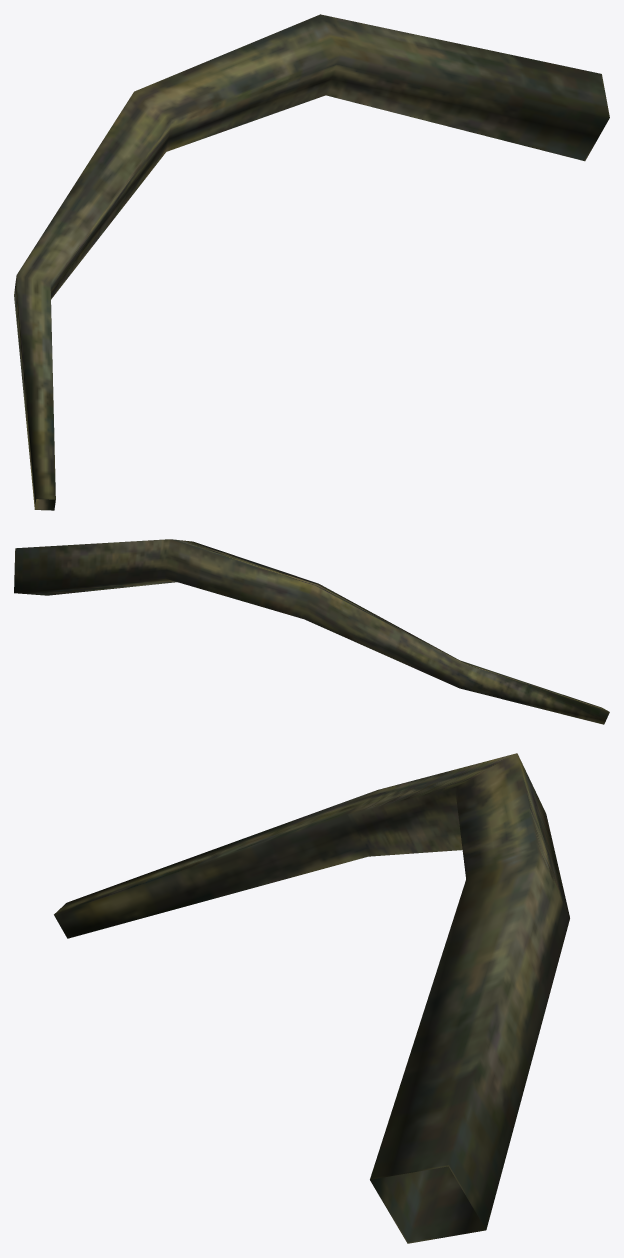
The model's file is OVERHILL_A_01_LINE339.obj.
3 views of the same model, one above another, from view 1: azimuth 30°, elevation 25°; view 2: azimuth 150°, elevation 25°; view 3: azimuth 270°, elevation 25° (orthographic). The views are drawn at different scales.
Parts seen in each view (by area): view 1: Line339; view 2: Line339; view 3: Line339.
Part boxes in pixels (x1,y1,x2,y2): Line339: (14,14,609,510); Line339: (14,539,609,724); Line339: (54,753,569,1243).
Bounding box in the file's own units: 126 × 46.42 × 56.39.
